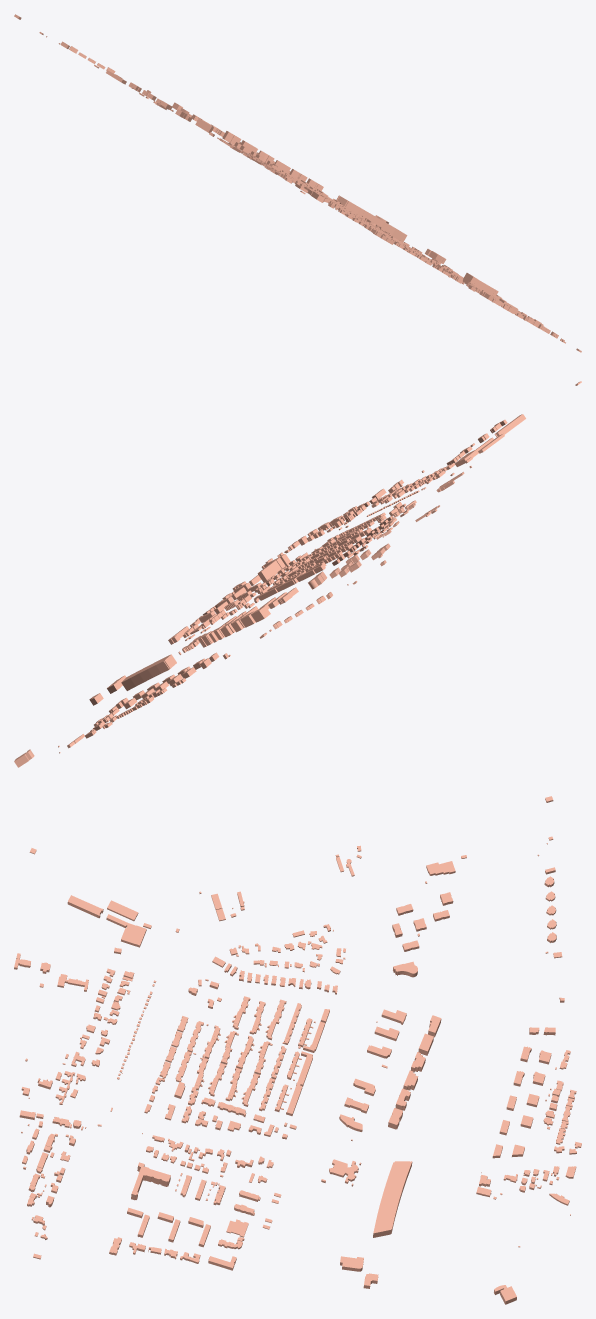
The picture shows the model from 3 angles, top to bottom: view 1: azimuth 30°, elevation 25°; view 2: azimuth 150°, elevation 25°; view 3: azimuth 270°, elevation 25°; orthographic projection. The views are drawn at different scales.
Bounding box in the file's own units: 988 × 758 × 1226.
